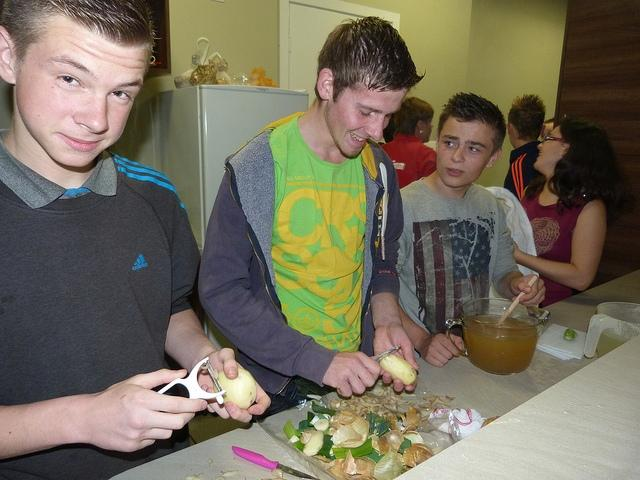potato: (213, 368, 257, 409), (378, 354, 416, 386)
